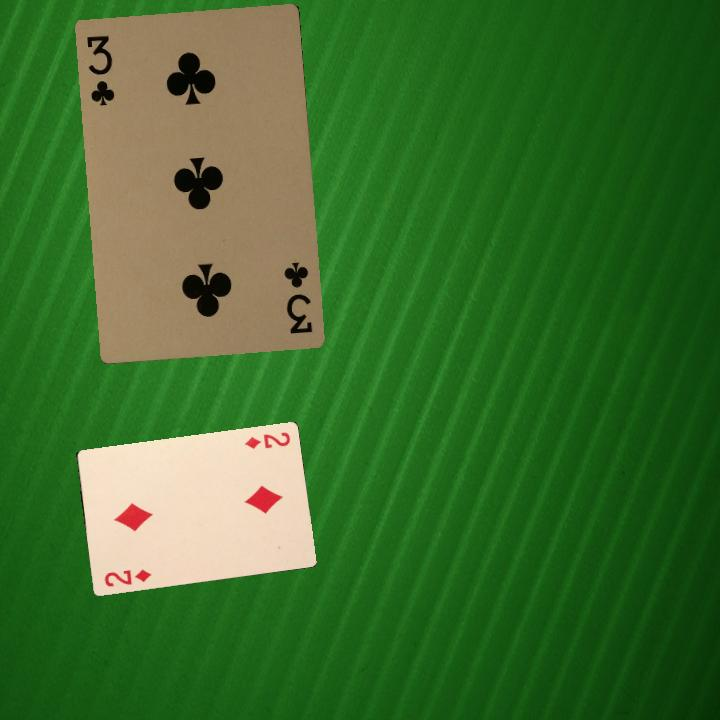2d: (100, 565, 153, 589), (241, 428, 293, 451)
3c: (279, 258, 315, 337), (83, 31, 118, 109)
